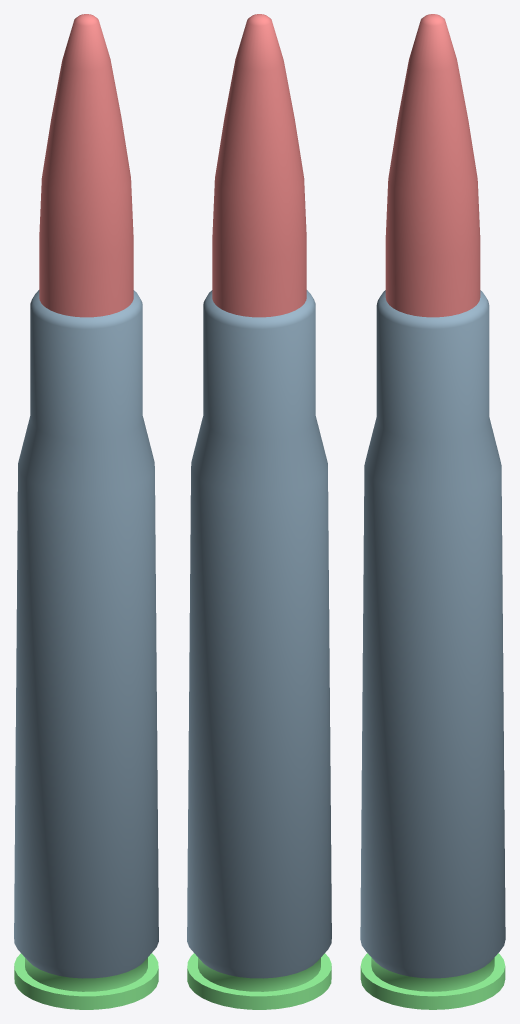
The picture shows the model from 3 angles, left to right: view 1: azimuth 30°, elevation 25°; view 2: azimuth 150°, elevation 25°; view 3: azimuth 270°, elevation 25°; orthographic projection.
Visible parts, largest first — view 1: Cylinder001 (×3); view 2: Cylinder001 (×3); view 3: Cylinder001 (×3).
Part boxes in pixels (bbox=[...]): Cylinder001 (×3): bbox=[14, 14, 158, 1009]; Cylinder001 (×3): bbox=[187, 14, 331, 1009]; Cylinder001 (×3): bbox=[360, 14, 505, 1009].
Size of the model in its own units: 0.2732 by 2 by 0.2732.
